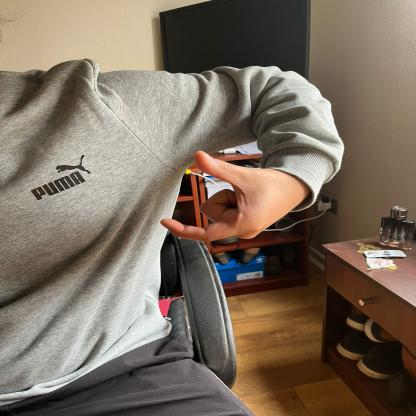G: (159, 146, 287, 245)
